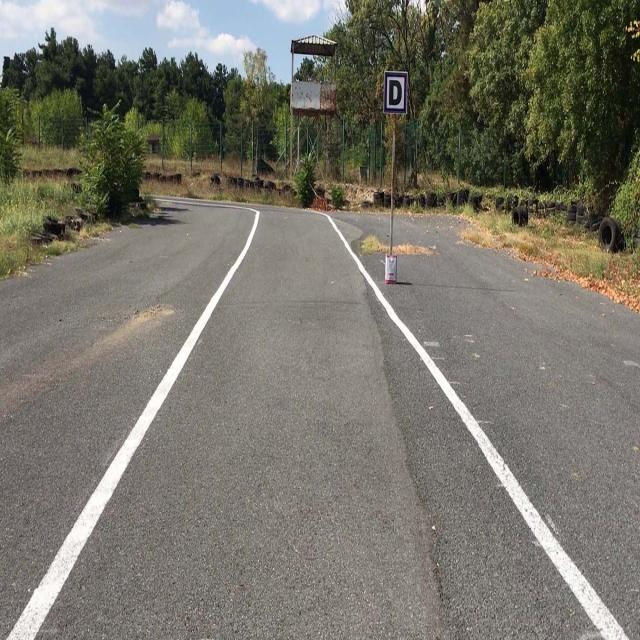durak: (385, 71, 407, 113)
